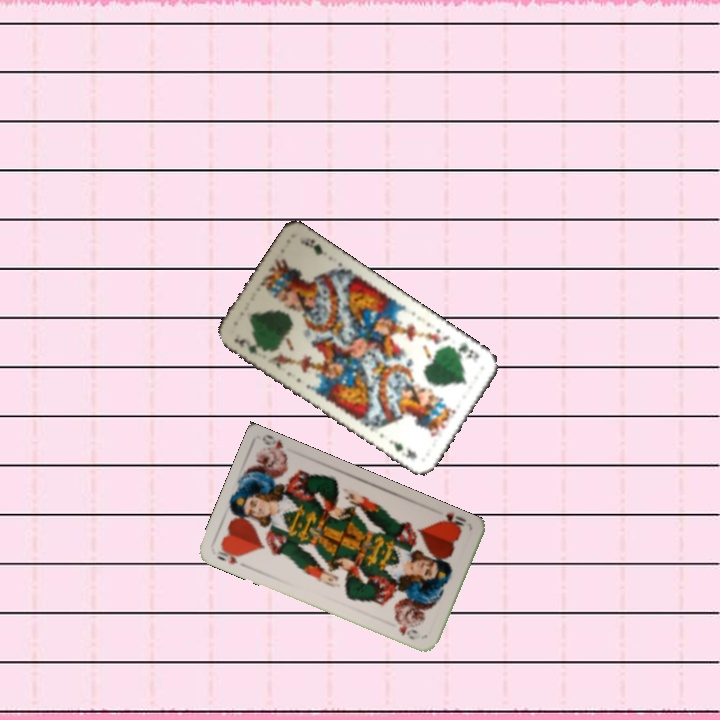GK: (448, 338, 482, 365), (230, 331, 266, 356)
HO: (435, 508, 468, 534), (213, 544, 245, 567)
